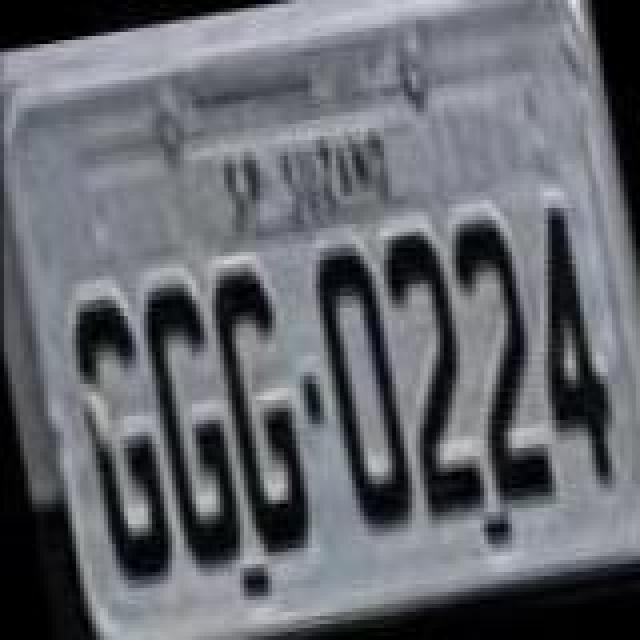2: (376, 224, 492, 524), (440, 210, 556, 510)
4: (514, 200, 626, 496)
G: (134, 274, 250, 578), (62, 286, 178, 586), (202, 260, 318, 560)
O: (306, 232, 422, 536)
